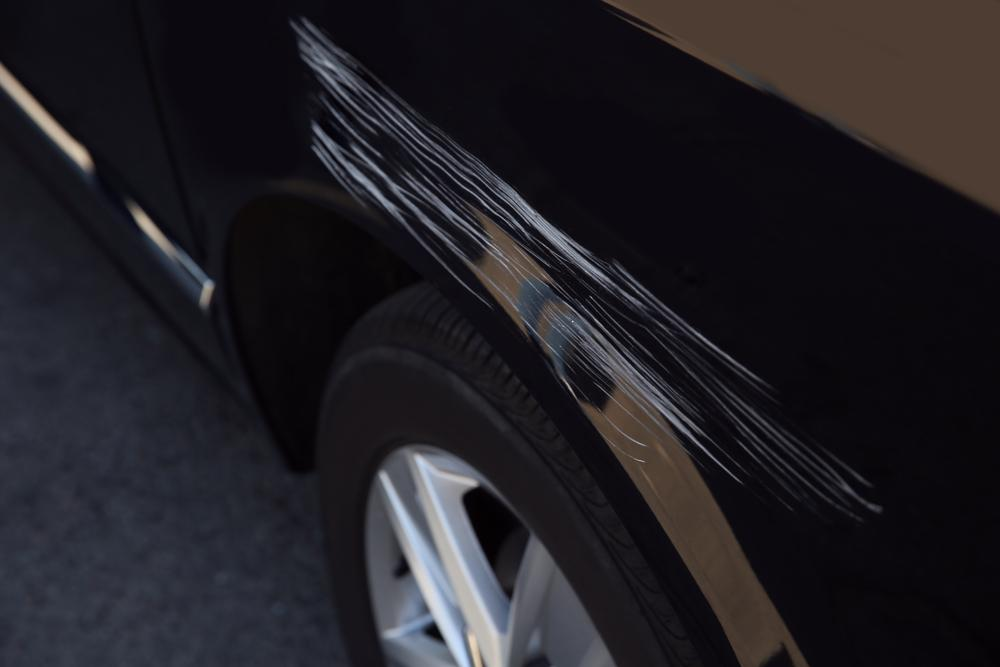scratch: (289, 9, 894, 525)
